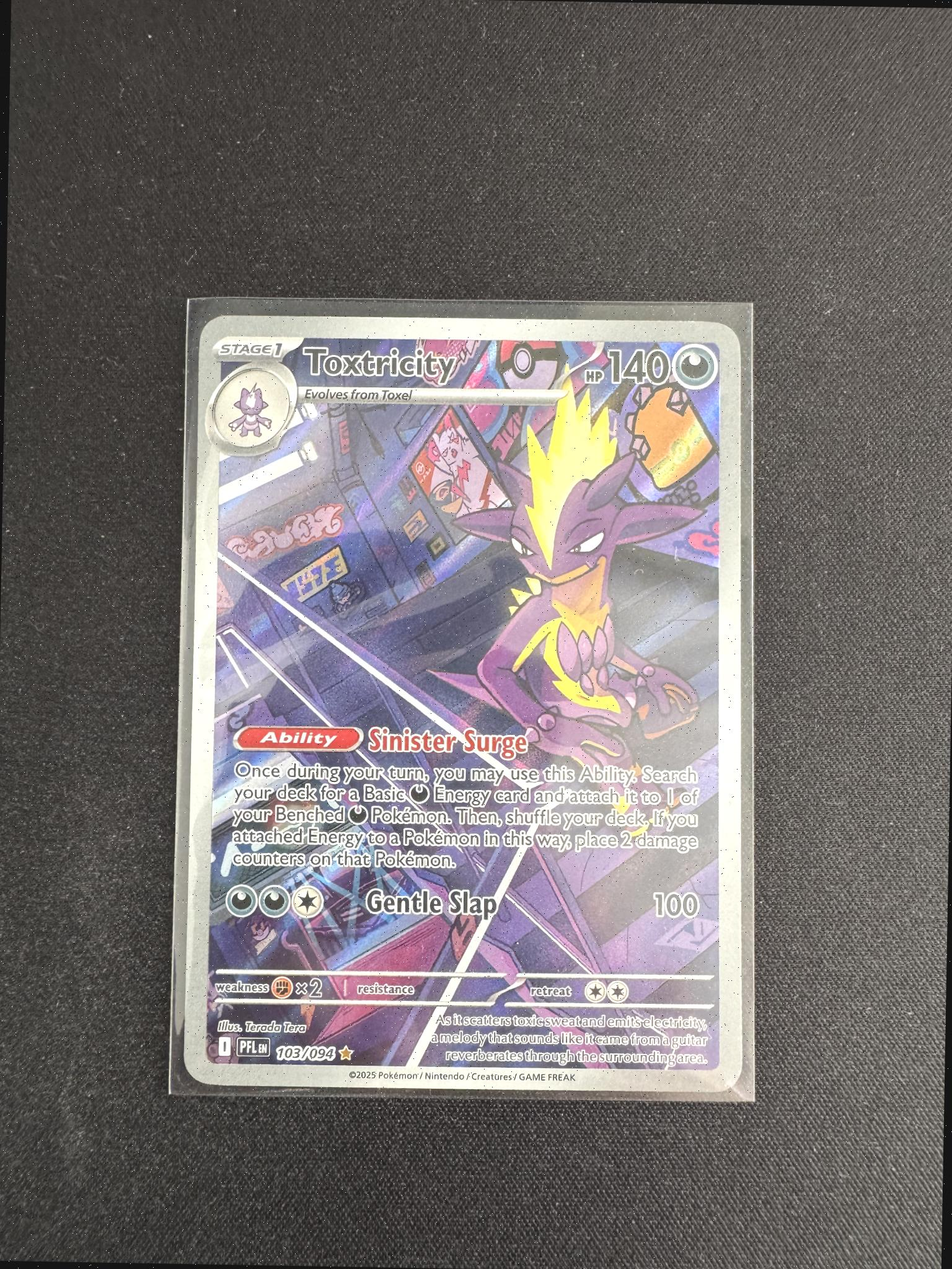card-2UtV: (183, 315, 742, 1093)
